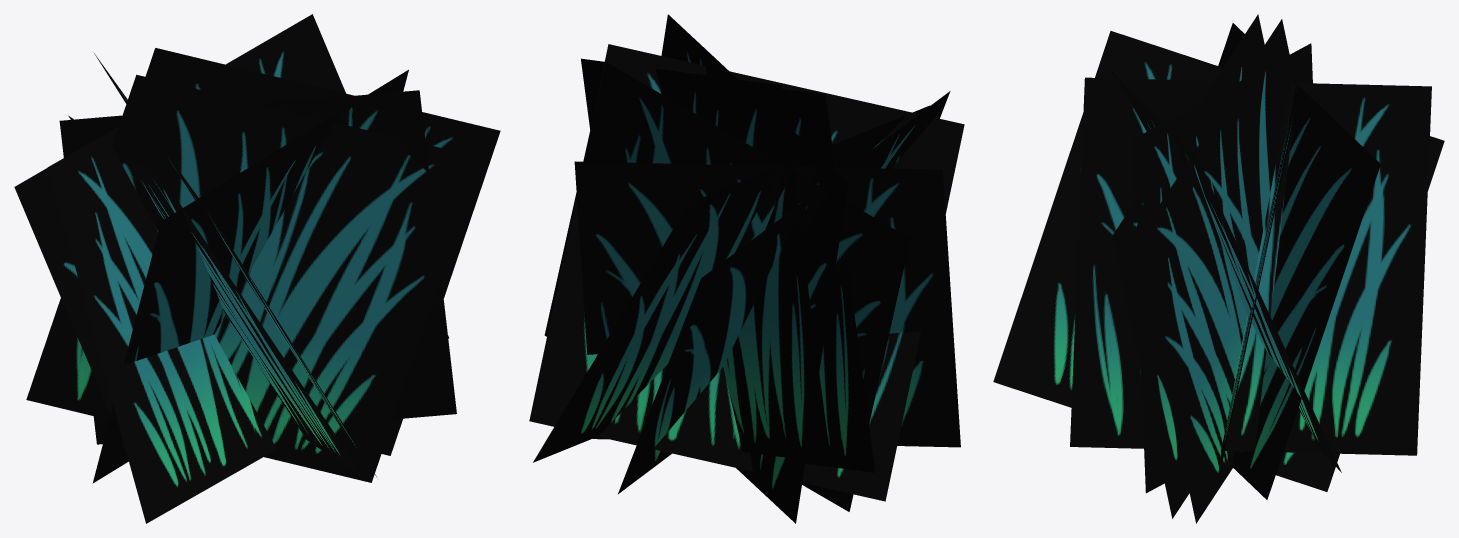
File: Grass_3.FBX
3 renders of one model, left to right at view 1: azimuth 30°, elevation 25°; view 2: azimuth 150°, elevation 25°; view 3: azimuth 270°, elevation 25°, orthographic. The views are drawn at different scales.
Parts seen in each view (by area): view 1: Plane004, Plane005, Plane008, Plane002, Plane001, Plane007, Plane006, Plane003; view 2: Plane005, Plane008, Plane007, Plane001, Plane003, Plane006, Plane004, Plane002; view 3: Plane003, Plane007, Plane005, Plane006, Plane002, Plane008, Plane004, Plane001.
Boxes of the visible parts, box(x1,y1,x2,y2) form: Plane004: box(26, 74, 481, 482); Plane005: box(47, 127, 276, 523); Plane008: box(92, 69, 408, 483); Plane002: box(59, 90, 456, 444); Plane001: box(14, 14, 448, 452); Plane007: box(145, 48, 500, 455); Plane006: box(68, 115, 365, 479); Plane003: box(94, 53, 376, 476); Plane005: box(574, 161, 960, 447); Plane008: box(529, 44, 964, 501); Plane007: box(581, 58, 830, 463); Plane001: box(544, 62, 910, 511); Plane003: box(533, 105, 929, 462); Plane006: box(618, 91, 950, 493); Plane004: box(782, 89, 875, 472); Plane002: box(661, 14, 848, 523); Plane003: box(1070, 77, 1431, 455); Plane007: box(1136, 19, 1295, 523); Plane005: box(1218, 23, 1380, 499); Plane006: box(993, 31, 1444, 491); Plane002: box(1132, 43, 1312, 493); Plane008: box(1109, 69, 1341, 472); Plane004: box(1112, 14, 1264, 518); Plane001: box(1221, 78, 1296, 467).
Size of the model in its own units: 8.45 by 8.34 by 8.65.
